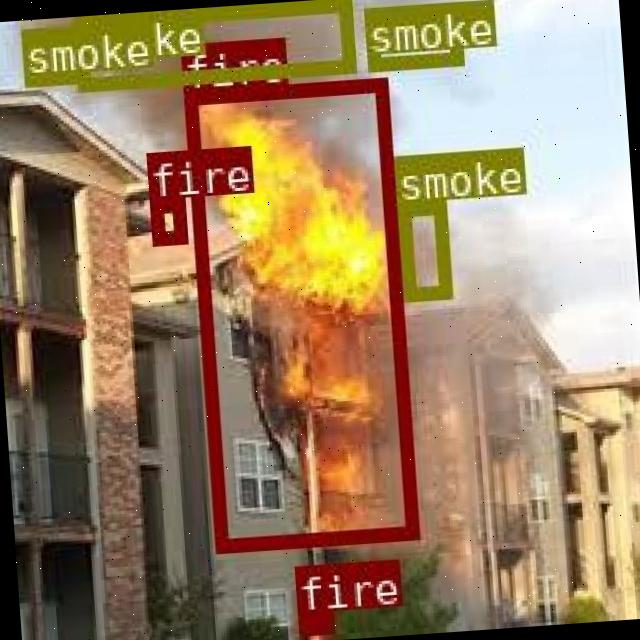fire: (182, 77, 416, 550), (148, 196, 184, 243), (296, 611, 330, 633)
smoke: (72, 0, 350, 86), (362, 1, 462, 68), (396, 200, 450, 297), (19, 24, 83, 83)
